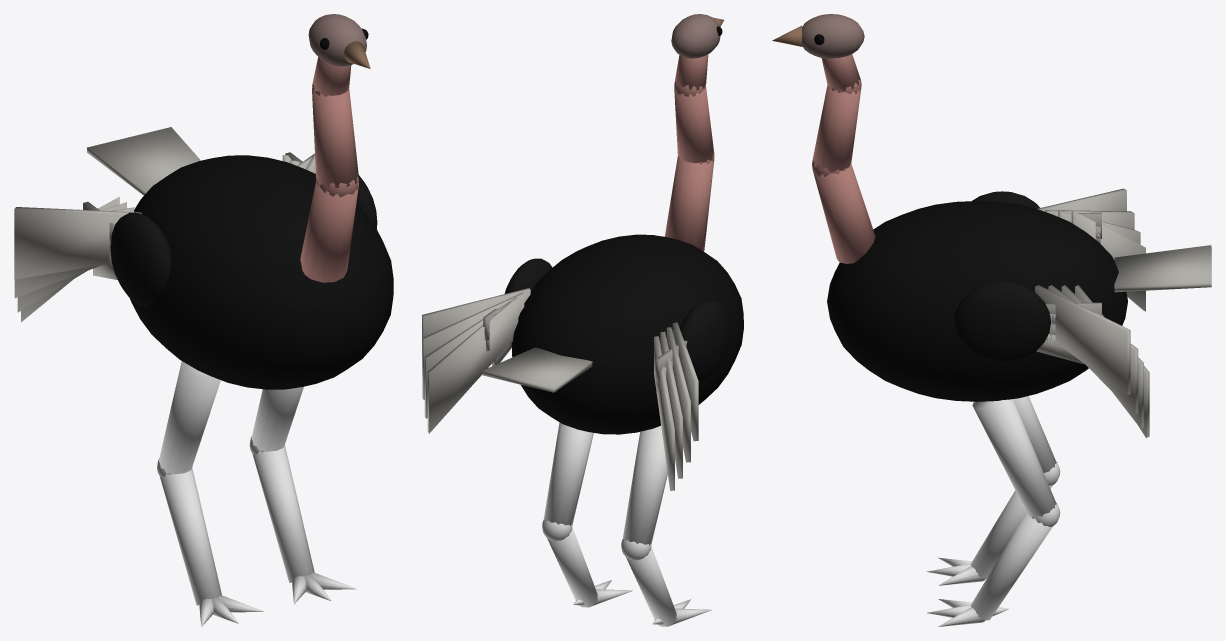
File: Ostrich.fbx
3 views of the same model, side by side, from view 1: azimuth 30°, elevation 25°; view 2: azimuth 150°, elevation 25°; view 3: azimuth 270°, elevation 25° (orthographic). The views are drawn at different scales.
Visible parts, largest first — view 1: Body.008, Head.008, LegL.008, LegR.008, WingL.008, WingR.008; view 2: Body.008, Head.008, LegL.008, LegR.008, WingL.008, WingR.008; view 3: Body.008, Head.008, LegR.008, WingR.008, LegL.008, WingL.008.
Part boxes in pixels (x1,y1,x2,y2): Body.008: (14, 127, 393, 389); Head.008: (300, 14, 370, 282); LegL.008: (157, 361, 263, 626); LegR.008: (249, 386, 356, 604); WingL.008: (83, 201, 171, 307); WingR.008: (285, 152, 377, 228); Body.008: (422, 234, 743, 490); Head.008: (664, 14, 723, 251); LegL.008: (621, 426, 711, 626); LegR.008: (542, 422, 632, 607); WingL.008: (655, 300, 729, 393); WingR.008: (483, 258, 552, 366); Body.008: (827, 188, 1211, 437); Head.008: (772, 14, 875, 263); LegR.008: (927, 399, 1060, 626); WingR.008: (954, 281, 1101, 364); LegL.008: (927, 396, 1060, 585); WingL.008: (972, 191, 1101, 243).
Bounding box in the file's own units: 0.8769 × 1.67 × 1.14.
